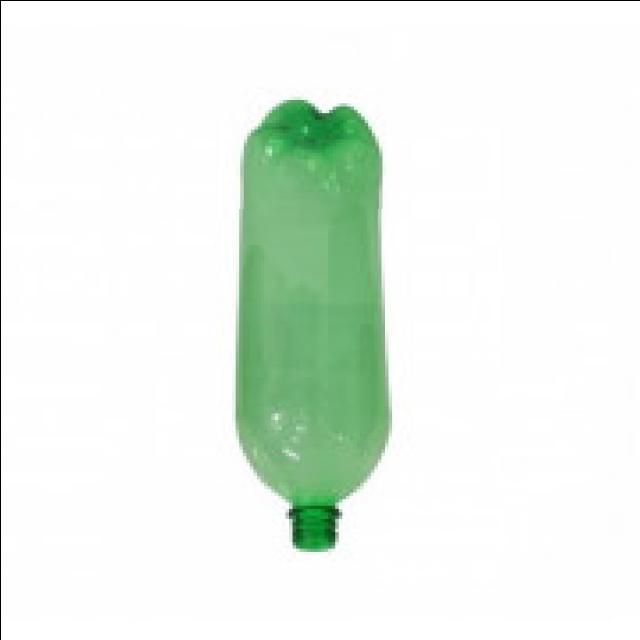bottom: (236, 92, 386, 208)
neck: (232, 418, 390, 553)
